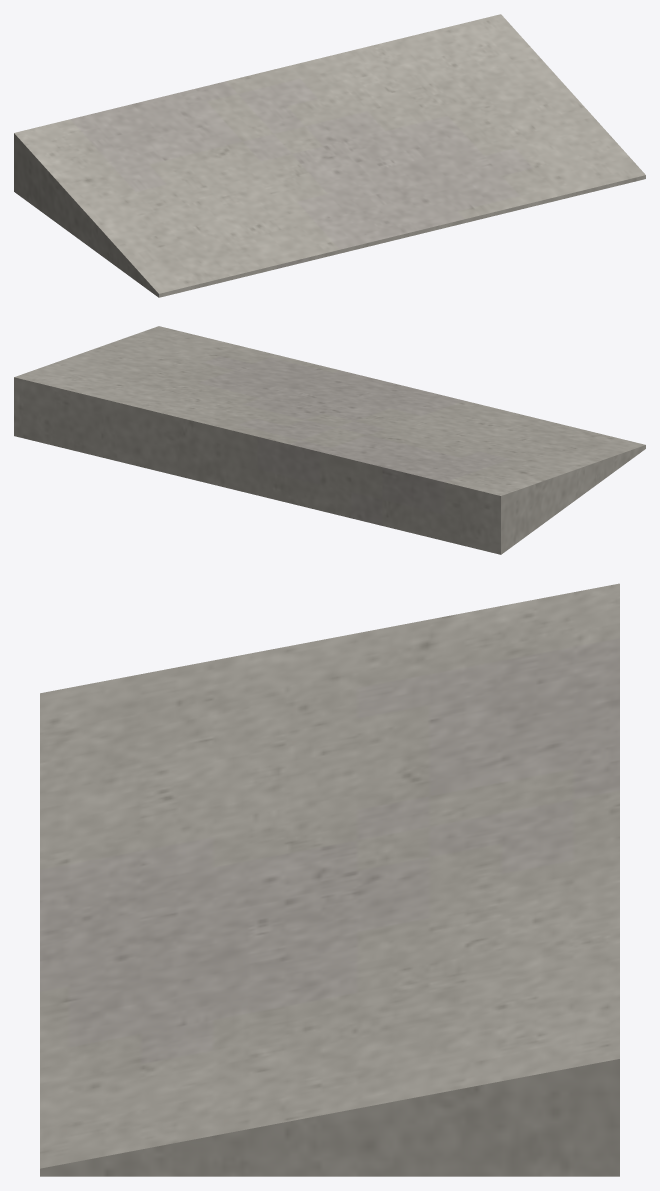
File: barn_ramp_small.glb
3 views of the same model, one above another, from view 1: azimuth 30°, elevation 25°; view 2: azimuth 150°, elevation 25°; view 3: azimuth 270°, elevation 25° (orthographic). The views are drawn at different scales.
Parts seen in each view (by area): view 1: barn_ramp_small_concrete; view 2: barn_ramp_small_concrete; view 3: barn_ramp_small_concrete.
Part boxes in pixels (x1=…): barn_ramp_small_concrete: x1=14, y1=14, x2=645, y2=297; barn_ramp_small_concrete: x1=14, y1=326, x2=645, y2=554; barn_ramp_small_concrete: x1=40, y1=583, x2=619, y2=1176.
Size of the model in its own units: 1.3 by 0.15 by 0.67.
Materials: 1 (1 with a texture image).
